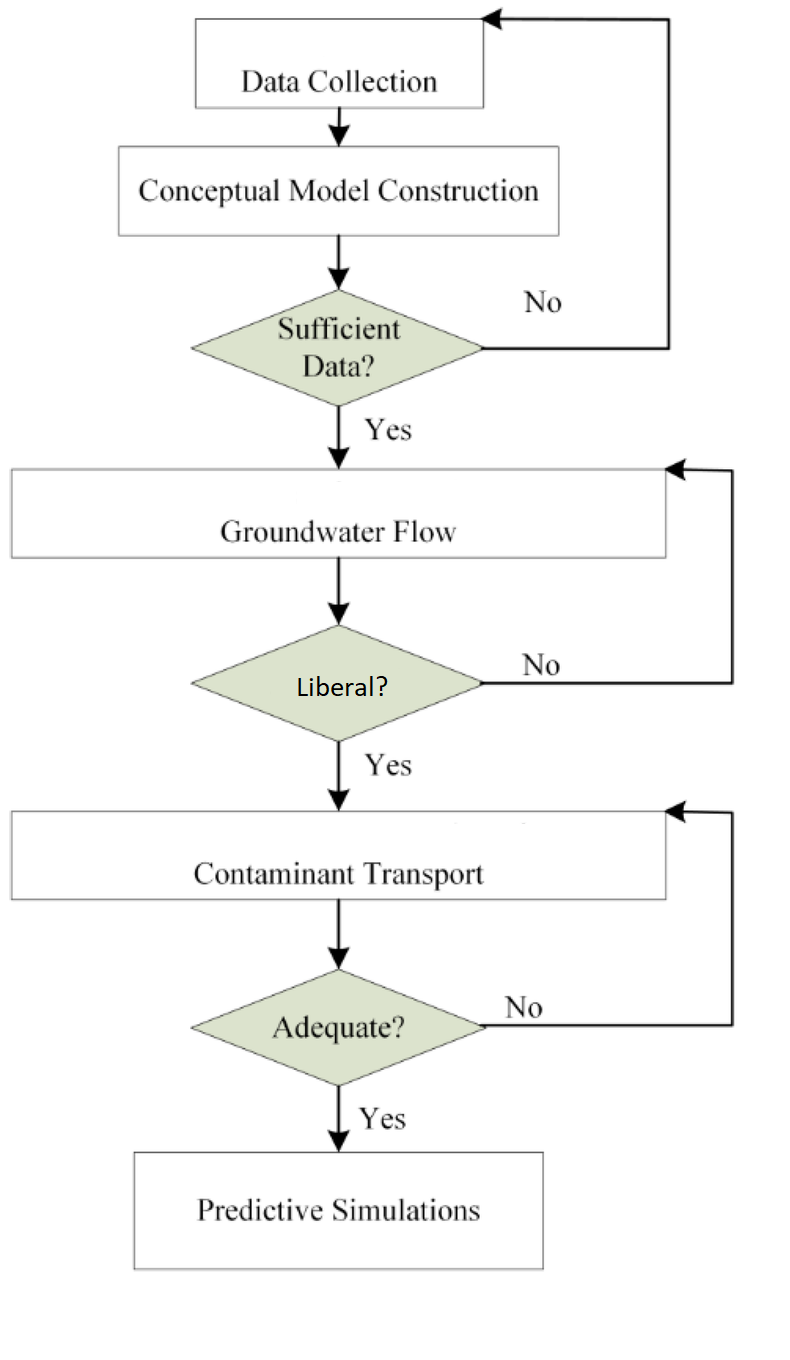arrow: (481, 7, 684, 357), (477, 452, 741, 687), (480, 800, 743, 1035), (320, 731, 356, 816), (321, 1082, 361, 1157), (322, 557, 354, 629), (322, 899, 354, 968), (320, 407, 351, 467), (326, 98, 358, 144), (324, 236, 350, 292)
decision: (183, 279, 487, 411), (184, 966, 496, 1091), (185, 623, 489, 744)
process: (4, 459, 675, 565), (1, 802, 672, 906), (125, 1143, 551, 1275), (111, 141, 566, 241), (184, 8, 494, 114)
text: (134, 170, 546, 210), (189, 853, 483, 896), (271, 310, 405, 381), (213, 513, 464, 550), (194, 1192, 486, 1223), (236, 62, 441, 97), (269, 1011, 408, 1050), (289, 667, 400, 705), (353, 1098, 413, 1138), (359, 746, 418, 783), (365, 411, 415, 448), (518, 285, 572, 318), (517, 647, 569, 679), (503, 989, 543, 1030)
